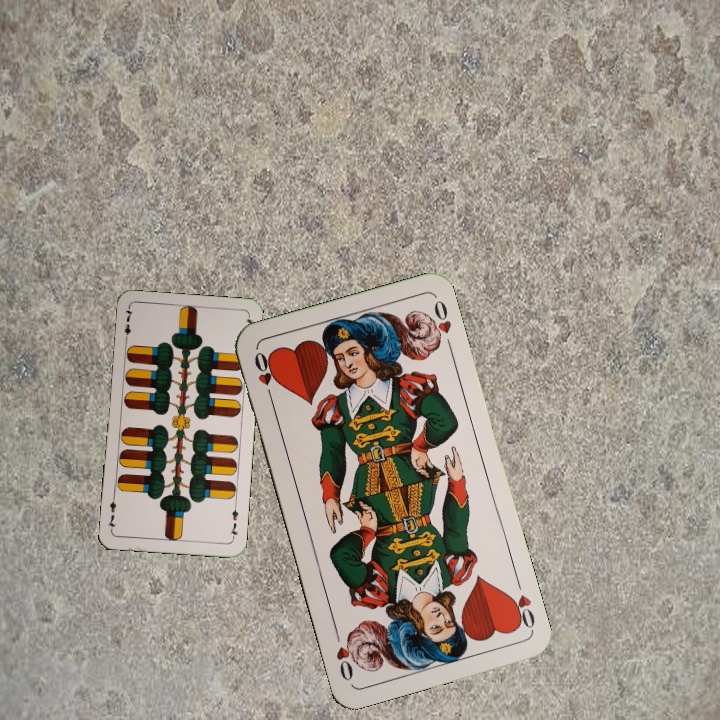E7: (226, 501, 241, 542), (121, 305, 135, 345)
HO: (504, 574, 538, 632), (250, 347, 278, 405)
